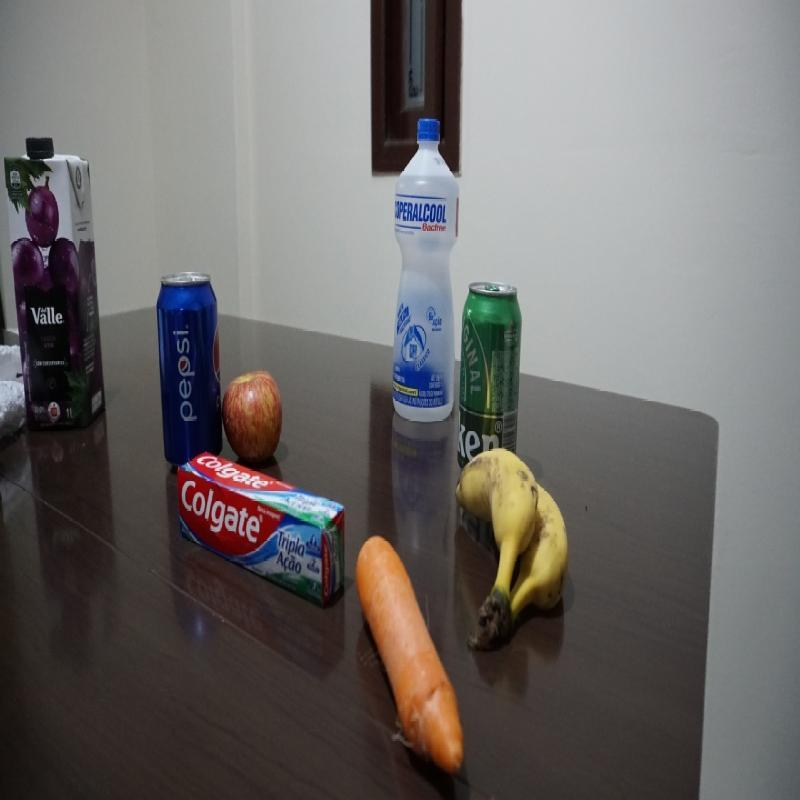Alcohol Bottle: (389, 115, 461, 423)
Apple: (223, 372, 286, 461)
Banana: (456, 447, 570, 650)
Beer can: (455, 279, 522, 467)
Carrot: (353, 533, 465, 786)
Soda can: (156, 267, 226, 472)
Toothpaste: (174, 450, 348, 604)
